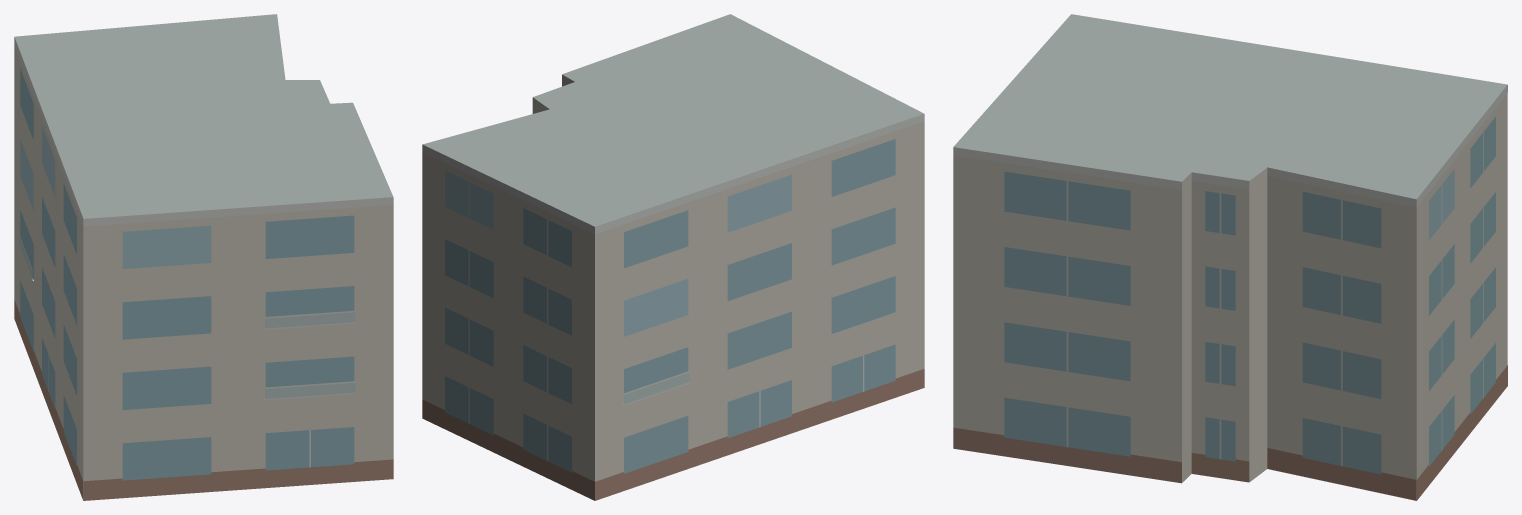
The model's file is survey-upis-32499411.glb.
3 views of the same model, side by side, from view 1: azimuth 30°, elevation 25°; view 2: azimuth 150°, elevation 25°; view 3: azimuth 270°, elevation 25° (orthographic). The views are drawn at different scales.
Visible parts, largest first — view 1: survey-upis-32499411.tmp; view 2: survey-upis-32499411.tmp; view 3: survey-upis-32499411.tmp.
Boxes of the visible parts, bbox=[...] form: survey-upis-32499411.tmp: bbox=[14, 14, 393, 500]; survey-upis-32499411.tmp: bbox=[422, 14, 924, 500]; survey-upis-32499411.tmp: bbox=[953, 14, 1507, 500].
Size of the model in its own units: 11.74 by 8.9 by 14.84.
